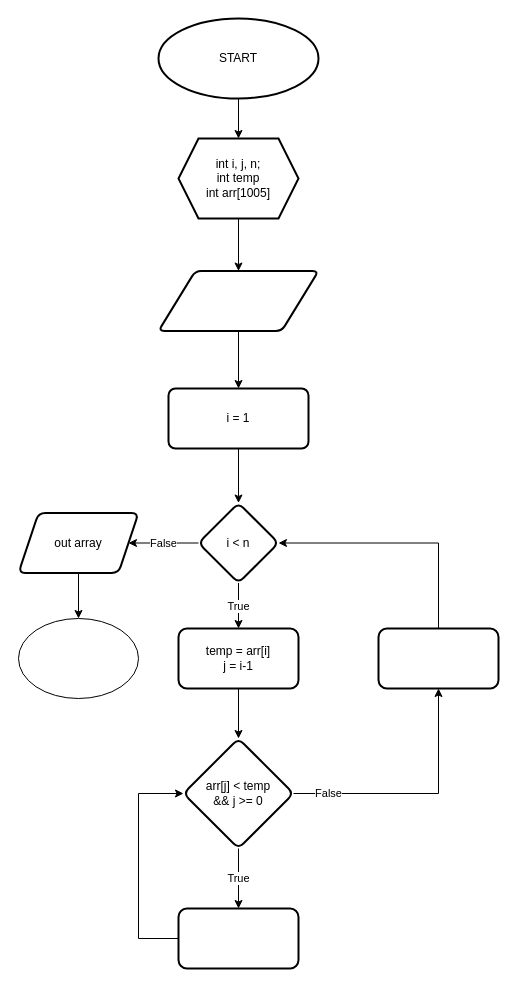
Image size: 516x986. Some labels were removed from this diagram. The box of each missing label's shape, as (x1, y1, x2, y2) in pixels:
arr[j+1] = arr[j] j --: (177, 907, 299, 969)
END: (18, 618, 138, 698)
i++: (377, 627, 499, 689)
in n, arr[n]: (157, 270, 319, 332)
